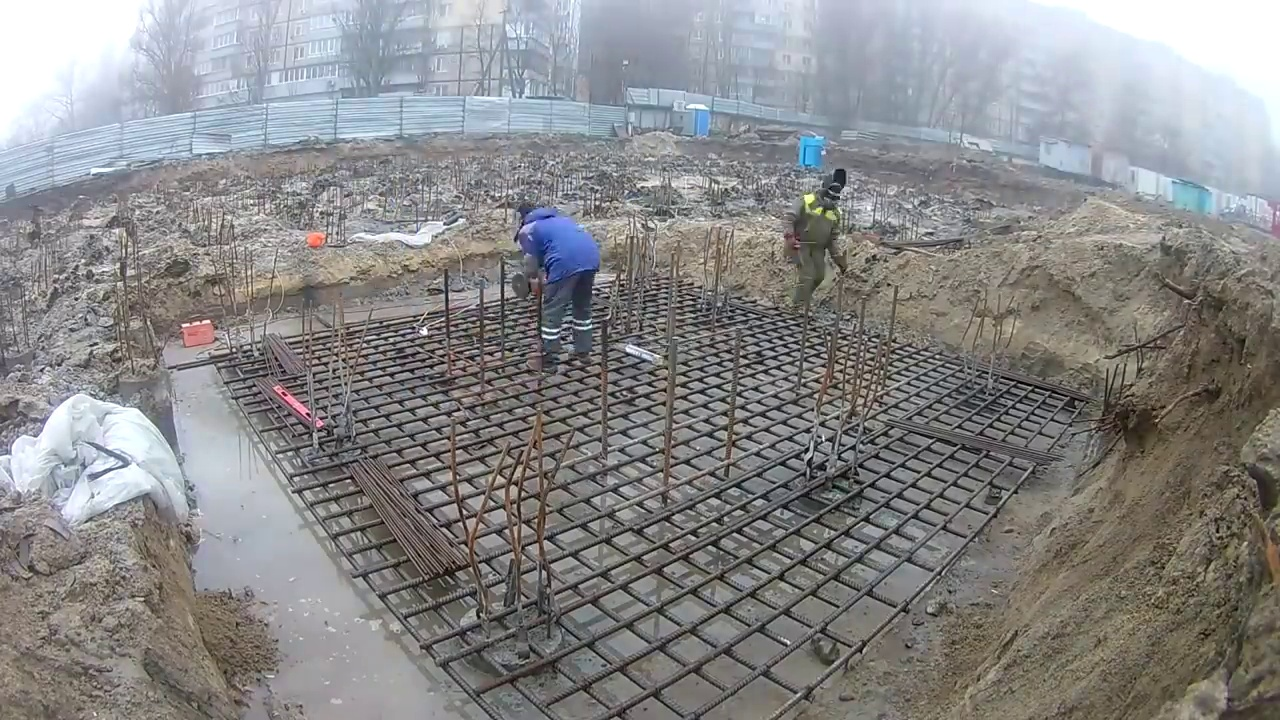helmet: (305, 233, 325, 247)
helmet-off: (822, 173, 846, 212), (512, 205, 545, 225)
person: (506, 203, 597, 366), (789, 170, 846, 318)
